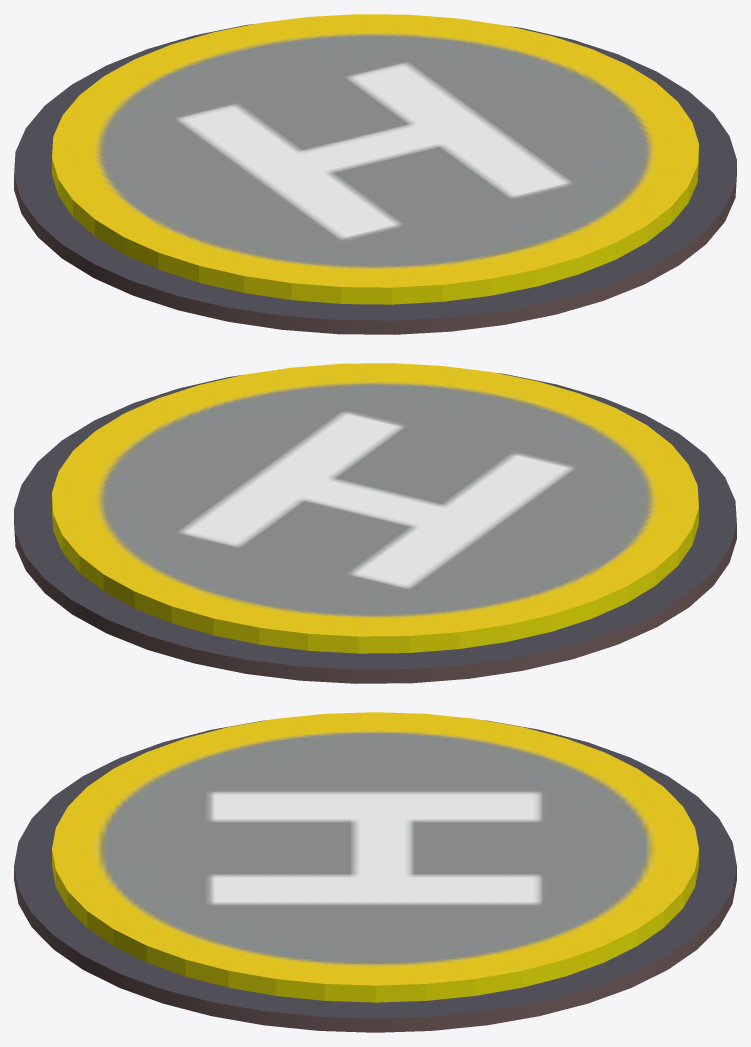
The model's file is helipad4.FBX.
The picture shows the model from 3 angles, top to bottom: view 1: azimuth 30°, elevation 25°; view 2: azimuth 150°, elevation 25°; view 3: azimuth 270°, elevation 25°; orthographic projection.
Visible parts, largest first — view 1: helipad4; view 2: helipad4; view 3: helipad4.
Part boxes in pixels (x1,y1,x2,y2): helipad4: [14, 14, 736, 334]; helipad4: [14, 363, 736, 683]; helipad4: [14, 712, 736, 1032].
Size of the model in its own units: 14.67 by 0.697 by 14.67.
